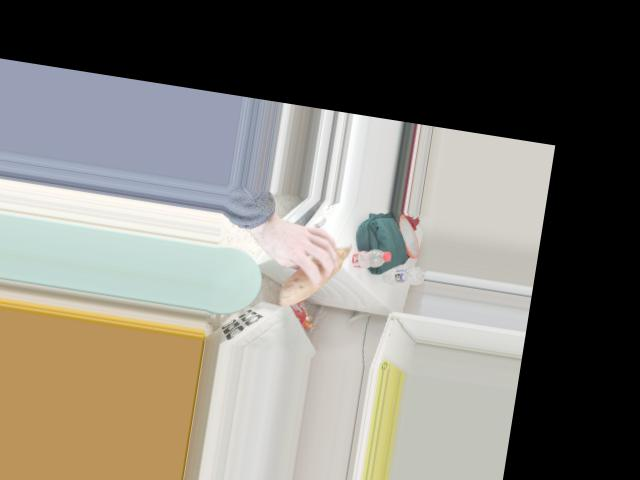sweet_potato: (280, 231, 350, 310)
